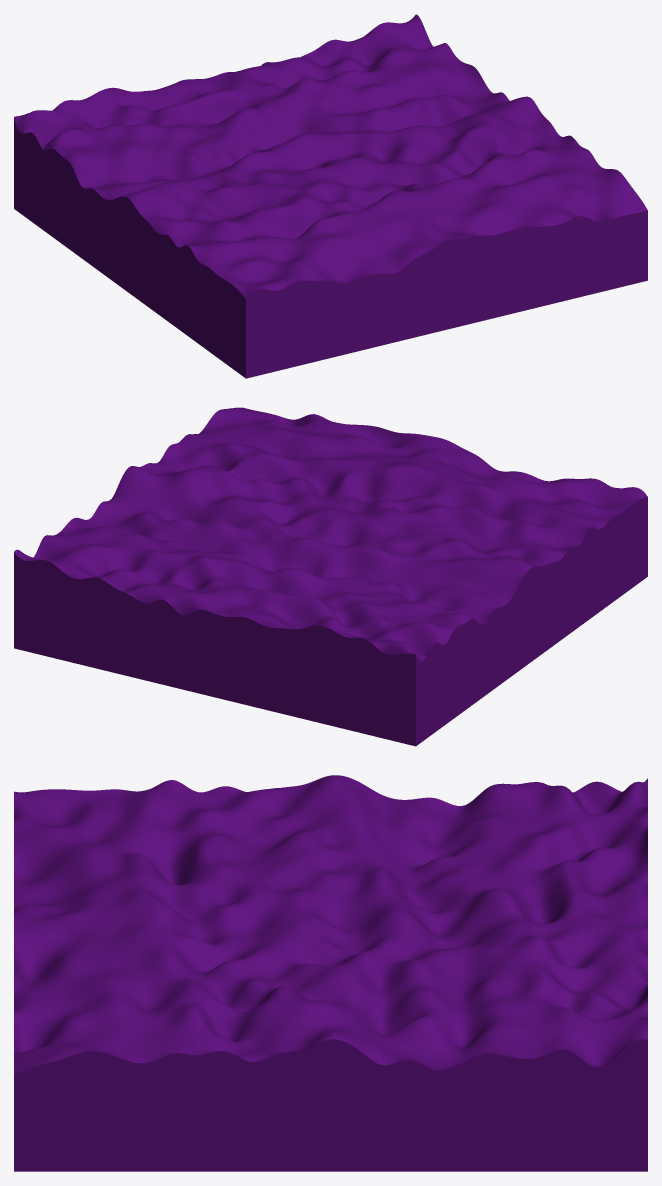
The model's file is testing123fogv4.glb.
The picture shows the model from 3 angles, top to bottom: view 1: azimuth 30°, elevation 25°; view 2: azimuth 150°, elevation 25°; view 3: azimuth 270°, elevation 25°; orthographic projection. The views are drawn at different scales.
Parts seen in each view (by area): view 1: fog_block_1.001; view 2: fog_block_1.001; view 3: fog_block_1.001.
Boxes of the visible parts, x1,y1,x2,y2 form: fog_block_1.001: [14, 14, 647, 378]; fog_block_1.001: [14, 407, 647, 746]; fog_block_1.001: [14, 775, 647, 1171].
Bounding box in the file's own units: 10 × 2.35 × 10.
